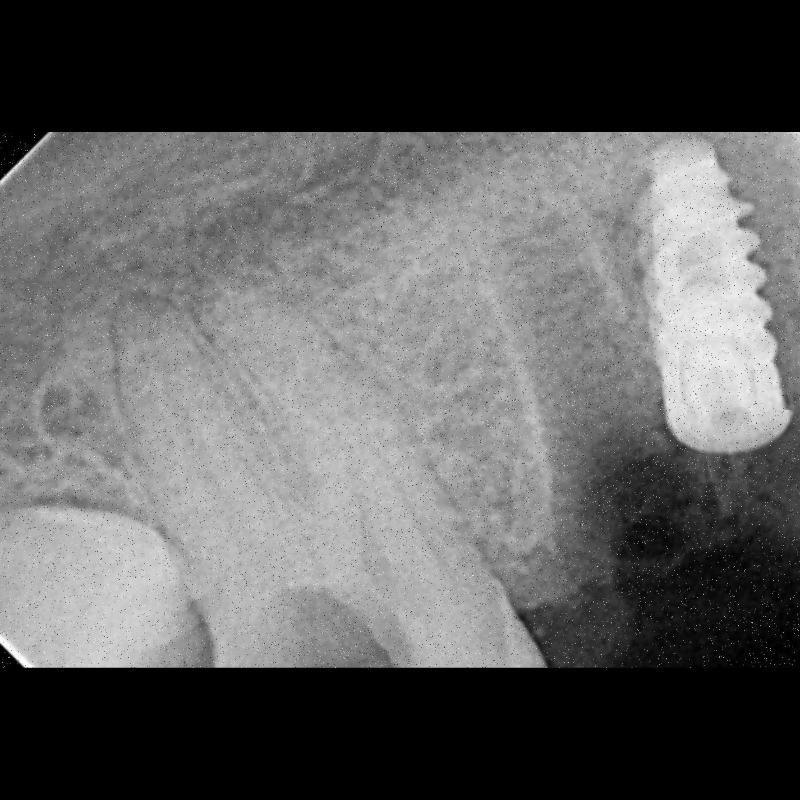NORIS: (681, 133, 800, 409)
